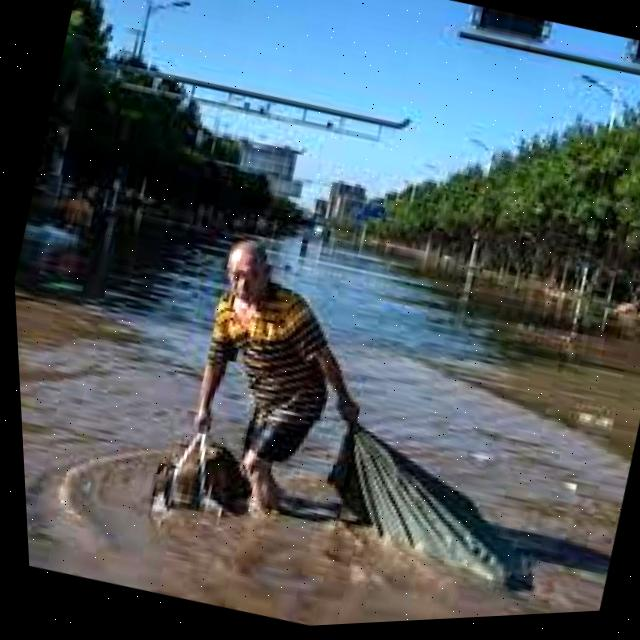civilian: (133, 221, 407, 563)
